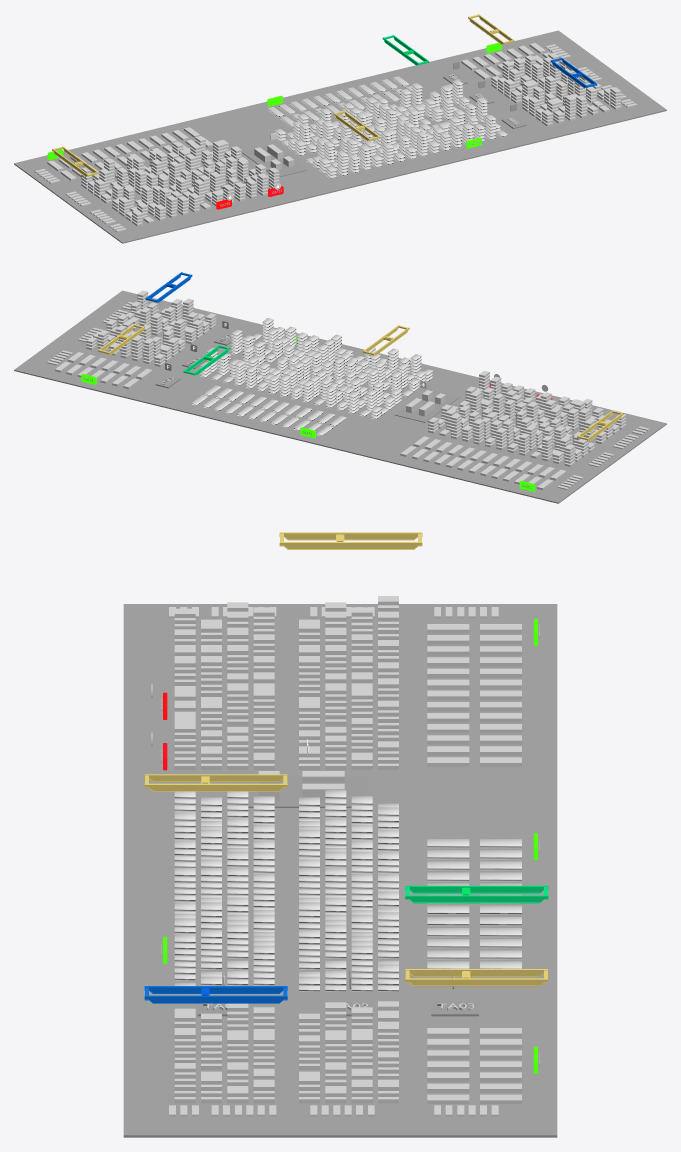
3 views of the same model, one above another, from view 1: azimuth 30°, elevation 25°; view 2: azimuth 150°, elevation 25°; view 3: azimuth 270°, elevation 25° (orthographic). The views are drawn at different scales.
Visible parts, largest first — view 1: 立方体.950, 立方体.056, CRANE.001, CRANE, CRANE.002, CRANE.003, CRANE.004; view 2: 立方体.950, 立方体.056, CRANE.003, CRANE.002, CRANE, CRANE.001, CRANE.004; view 3: 立方体.950, CRANE, CRANE.002, CRANE.003, CRANE.001, CRANE.004, 立方体.056.
Boxes of the visible parts, left/top/right/bottom form: 立方体.950: left=14, top=30, right=666, bottom=243; 立方体.056: left=242, top=146, right=306, bottom=177; CRANE.001: left=468, top=14, right=514, bottom=44; CRANE: left=382, top=35, right=429, bottom=65; CRANE.002: left=333, top=110, right=380, bottom=141; CRANE.003: left=550, top=57, right=597, bottom=88; CRANE.004: left=52, top=146, right=98, bottom=176; 立方体.950: left=14, top=290, right=666, bottom=503; 立方体.056: left=395, top=389, right=459, bottom=422; CRANE.003: left=145, top=272, right=192, bottom=302; CRANE.002: left=363, top=325, right=409, bottom=355; CRANE: left=183, top=345, right=230, bottom=375; CRANE.001: left=98, top=324, right=144, bottom=354; CRANE.004: left=577, top=410, right=623, bottom=440; 立方体.950: left=123, top=604, right=557, bottom=1137; CRANE: left=405, top=885, right=548, bottom=903; CRANE.002: left=144, top=774, right=287, bottom=791; CRANE.003: left=144, top=986, right=287, bottom=1003; CRANE.001: left=405, top=969, right=548, bottom=986; CRANE.004: left=279, top=532, right=422, bottom=549; 立方体.056: left=230, top=776, right=367, bottom=807.
Size of the model in its own units: 23.91 by 1.93 by 8.25.
